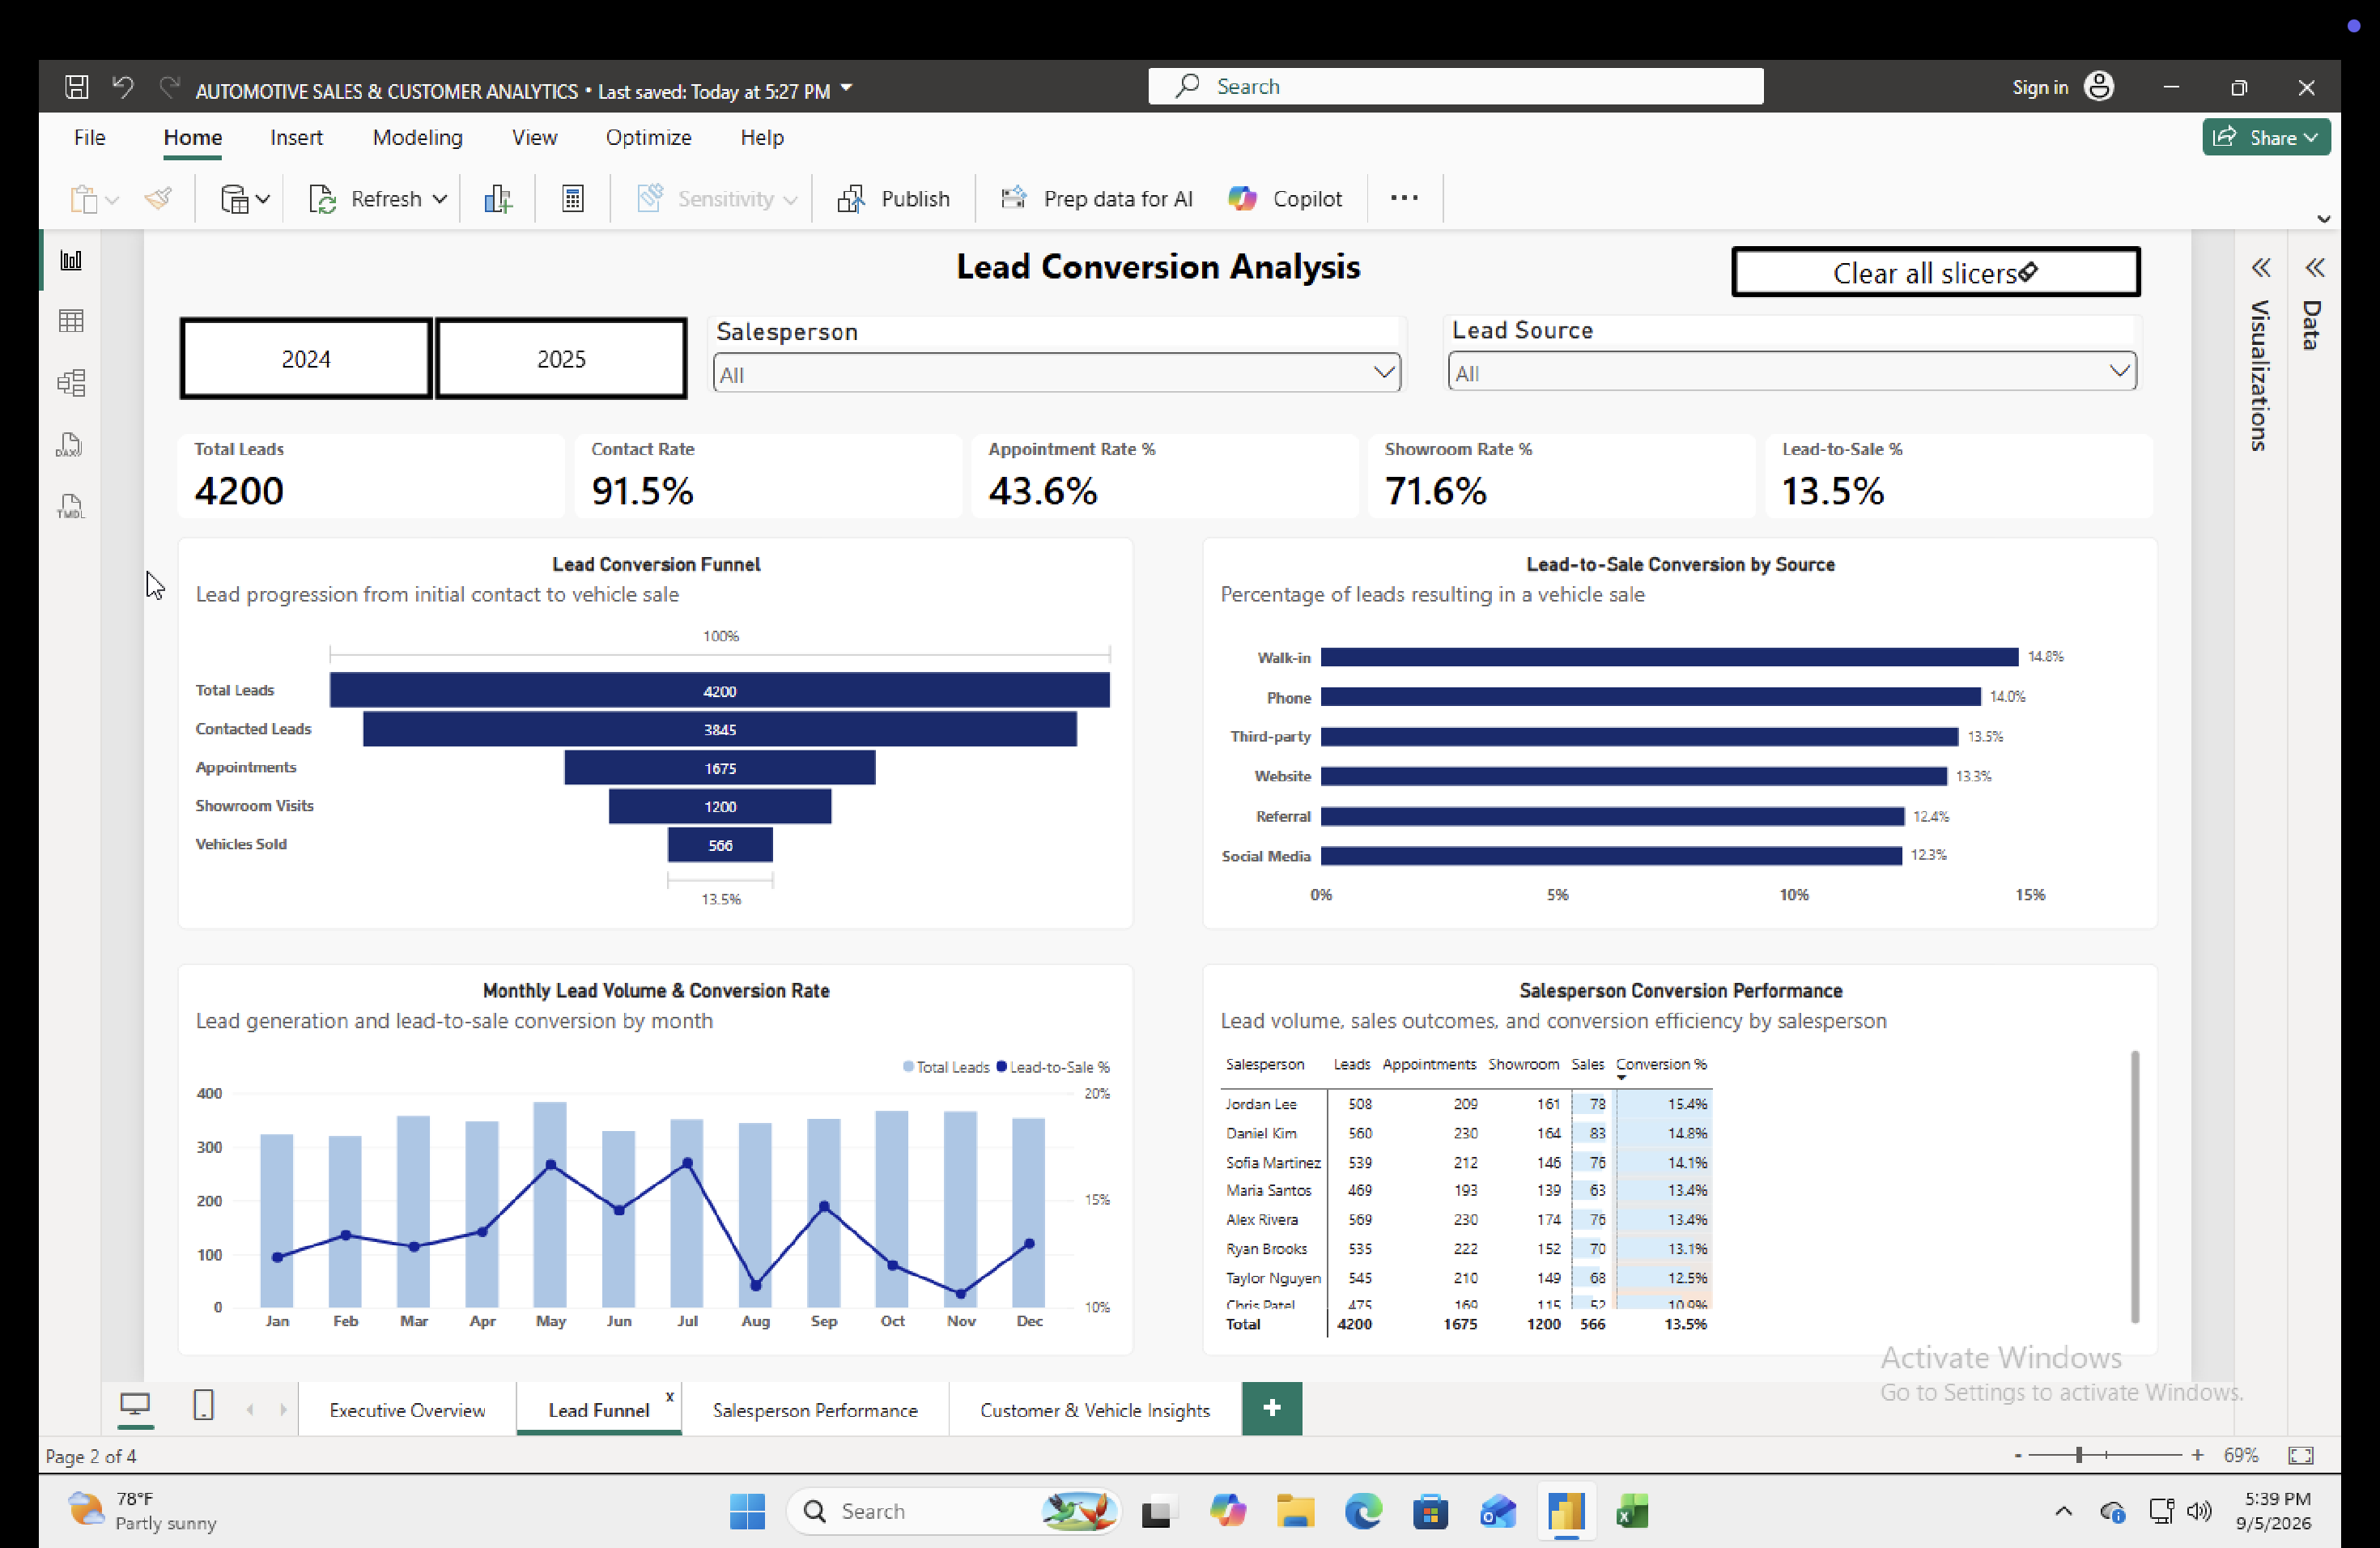

This screenshot's page, from the dashboard's own definition file:
{"tool":"powerbi","page":{"name":"Lead Funnel","canvas":[1920,1080],"ordinal":1},"visuals":[{"type":"slicer","fields":{"Values":["DimSalesPerson.Salesperson"]},"box":[528,82.1,657.2,72.3],"z":0,"group":"g1"},{"type":"cardVisual","fields":{"Data":["FactLeads.Total Leads","FactLeads.Contact Rate","FactLeads.Appointment Rate %","FactLeads.Showroom Rate %","FactLeads.Lead to Sales %"]},"box":[32,192,1856,80],"z":0},{"type":"slicer","fields":{"Values":["DimLeadSource.LeadSource"]},"box":[1217.2,80,657.2,72.3],"z":1000,"group":"g1"},{"type":"funnel","title":"Lead Conversion Funnel","fields":{"Y":["FactLeads.Total Leads","FactLeads.Contacted Leads","FactLeads.Appointments","FactLeads.Showroom Visits","FactLeads.Sold Leads"]},"box":[32,288,896,368],"z":1000},{"type":"lineClusteredColumnComboChart","title":"Monthly Lead Volume & Conversion Rate","fields":{"Category":["DimDate.Month"],"Y":["FactLeads.Total Leads"],"Y2":["FactLeads.Lead-to-Sale %"]},"box":[32,688,896,368],"z":2000},{"type":"clusteredBarChart","title":"Lead-to-Sale Conversion by Source","fields":{"Category":["DimLeadSource.LeadSource"],"Y":["FactLeads.Lead to Sales %"]},"box":[992,288,896,368],"z":3000},{"type":"pivotTable","title":"Salesperson Conversion Performance","fields":{"Rows":["DimSalesPerson.Salesperson"],"Values":["FactLeads.Total Leads","FactLeads.Appointments","FactLeads.Showroom Visits","FactLeads.Sold Leads","FactLeads.Lead to Sales %"]},"box":[992,688,896,368],"z":4000},{"type":"textbox","box":[760.8,10.9,395.9,52.2],"z":5000},{"type":"actionButton","box":[1488,16,384,48],"z":6000},{"type":"group","id":"g1","title":"Group 1","box":[528,80,1344,80],"z":8000},{"type":"slicer","fields":{"Values":["DimDate.Year"]},"box":[12.3,80.8,516.5,80.8],"z":9000}]}

Visuals, with their boxes on the page's 1920x1080 design canvas (x1, y1, x2, y2). These are canvas units, not pixel positions in the 2380x1548 screenshot, which may show the page scaled, cropped or inside an application window:
slicer - DimSalesPerson.Salesperson: [left=528, top=82, right=1185, bottom=154]
cardVisual - FactLeads.Total Leads x FactLeads.Contact Rate: [left=32, top=192, right=1888, bottom=272]
slicer - DimLeadSource.LeadSource: [left=1217, top=80, right=1874, bottom=152]
"Lead Conversion Funnel" funnel: [left=32, top=288, right=928, bottom=656]
"Monthly Lead Volume & Conversion Rate" lineClusteredColumnComboChart: [left=32, top=688, right=928, bottom=1056]
"Lead-to-Sale Conversion by Source" clusteredBarChart: [left=992, top=288, right=1888, bottom=656]
"Salesperson Conversion Performance" pivotTable: [left=992, top=688, right=1888, bottom=1056]
textbox: [left=761, top=11, right=1157, bottom=63]
actionButton: [left=1488, top=16, right=1872, bottom=64]
"Group 1" group: [left=528, top=80, right=1872, bottom=160]
slicer - DimDate.Year: [left=12, top=81, right=529, bottom=162]
